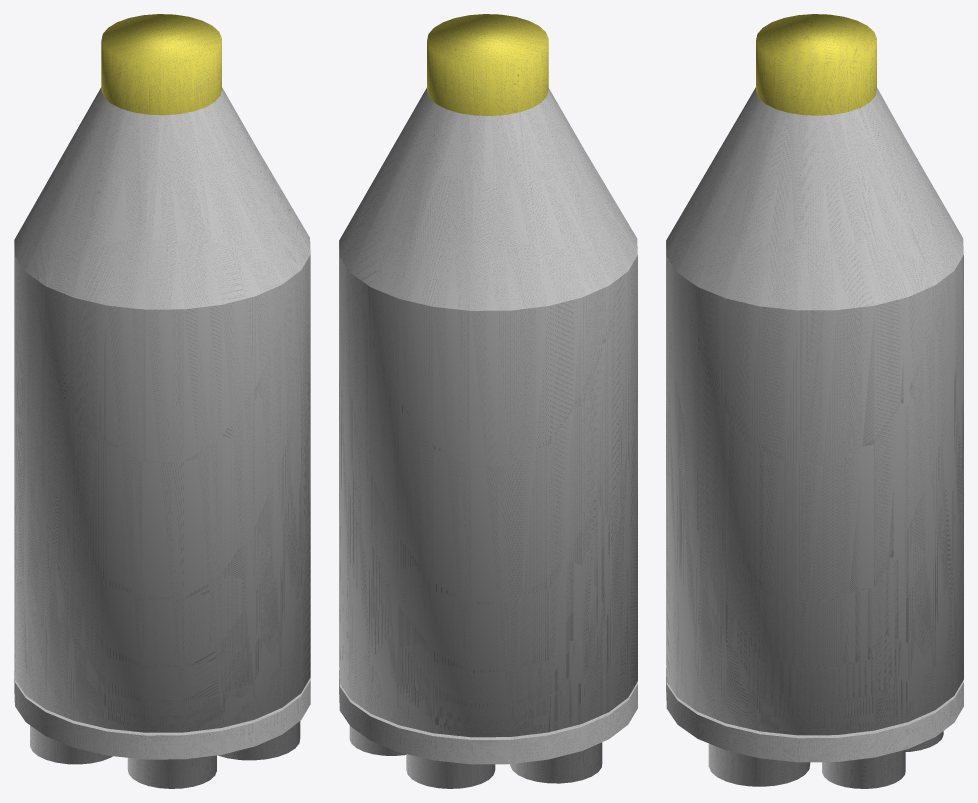
3 renders of one model, left to right at view 1: azimuth 30°, elevation 25°; view 2: azimuth 150°, elevation 25°; view 3: azimuth 270°, elevation 25°, orthographic.
Parts seen in each view (by area): view 1: mesh1_mesh1-geometry, mesh2_mesh2-geometry; view 2: mesh1_mesh1-geometry, mesh2_mesh2-geometry; view 3: mesh1_mesh1-geometry, mesh2_mesh2-geometry.
Part boxes in pixels (left/top/right/bottom): mesh1_mesh1-geometry: left=14, top=14, right=310, bottom=788; mesh2_mesh2-geometry: left=14, top=668, right=310, bottom=759; mesh1_mesh1-geometry: left=339, top=14, right=637, bottom=788; mesh2_mesh2-geometry: left=339, top=670, right=637, bottom=764; mesh1_mesh1-geometry: left=666, top=14, right=963, bottom=788; mesh2_mesh2-geometry: left=666, top=668, right=963, bottom=762.
Bounding box in the file's own units: 0.3397 × 0.877 × 0.3397.
